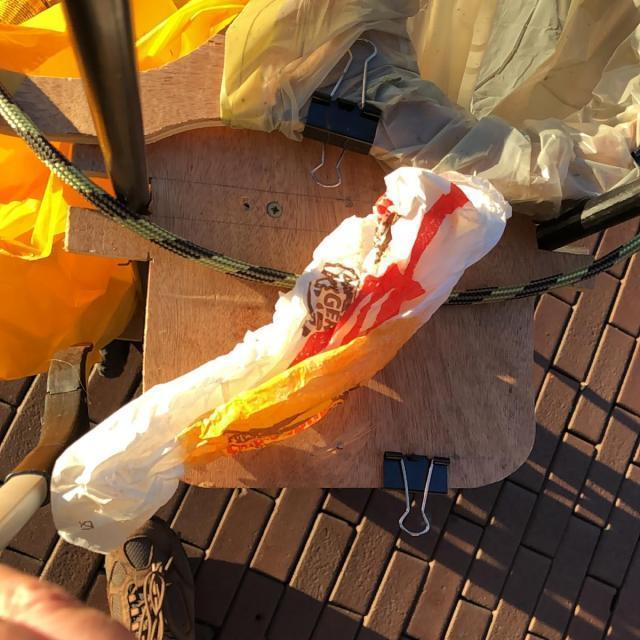Paper: (50, 165, 513, 557)
